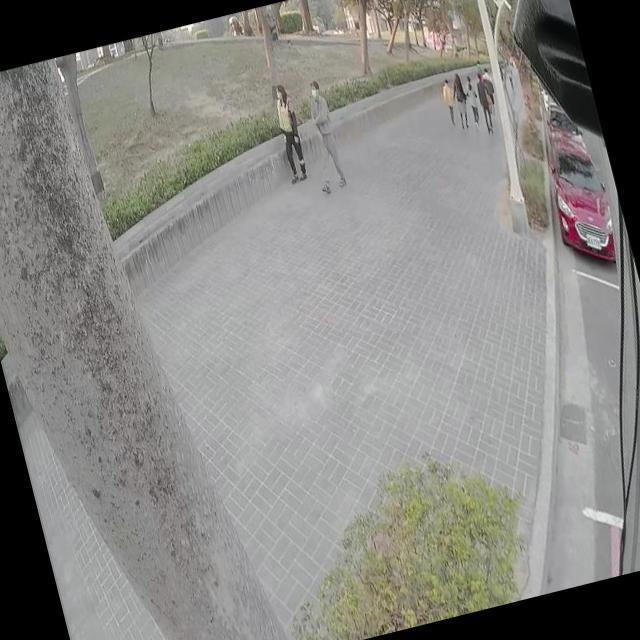person: (305, 79, 350, 192), (268, 82, 312, 183), (470, 68, 498, 134), (460, 73, 486, 132), (448, 70, 472, 126), (478, 62, 501, 118), (438, 76, 461, 122)
